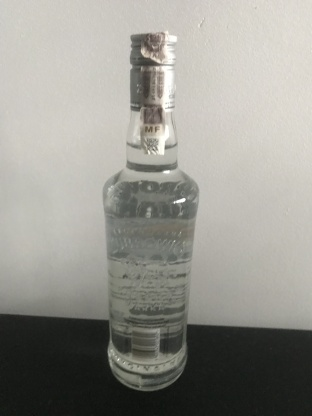nakretka: (128, 31, 178, 112)
